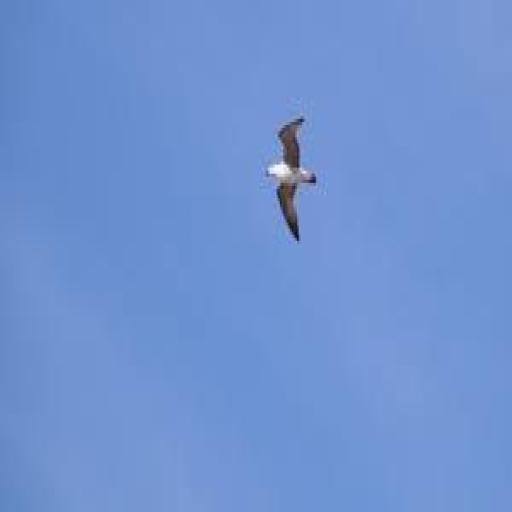birds: (264, 113, 319, 247)
